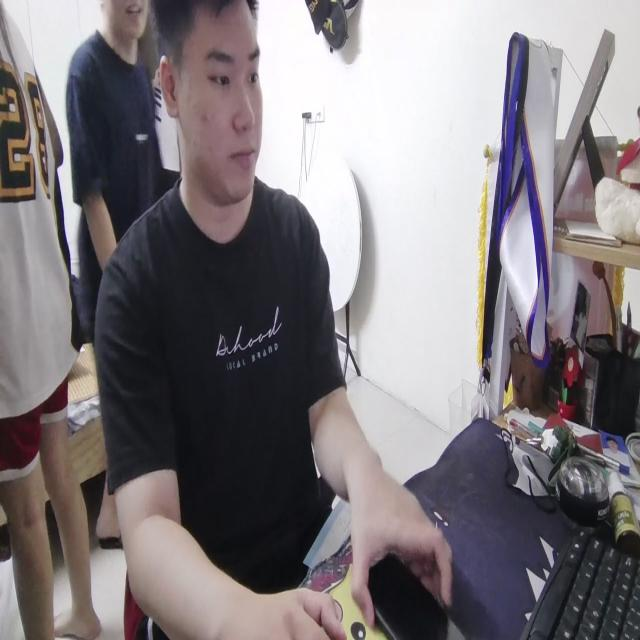extra_person: (0, 0, 102, 640), (67, 5, 166, 320)
phone: (362, 540, 463, 640)
student: (91, 0, 458, 640)
